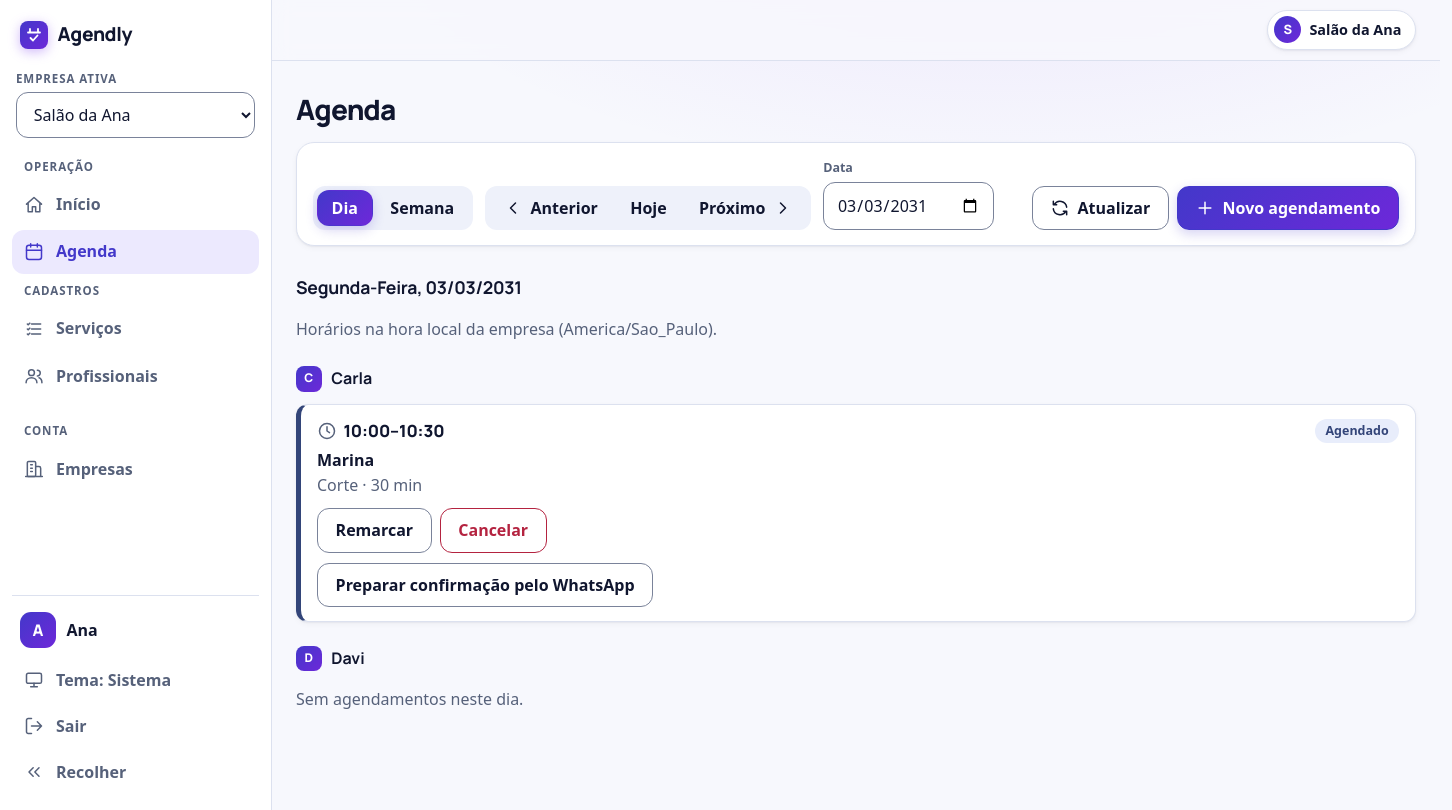
Test: navegação e visão semanal › alterna para a semana (segunda a domingo), consulta os 7 dias e põe cada agendamento no seu dia
Step 1. Click the button "Semana" → (422, 208), box [376,190,469,226]
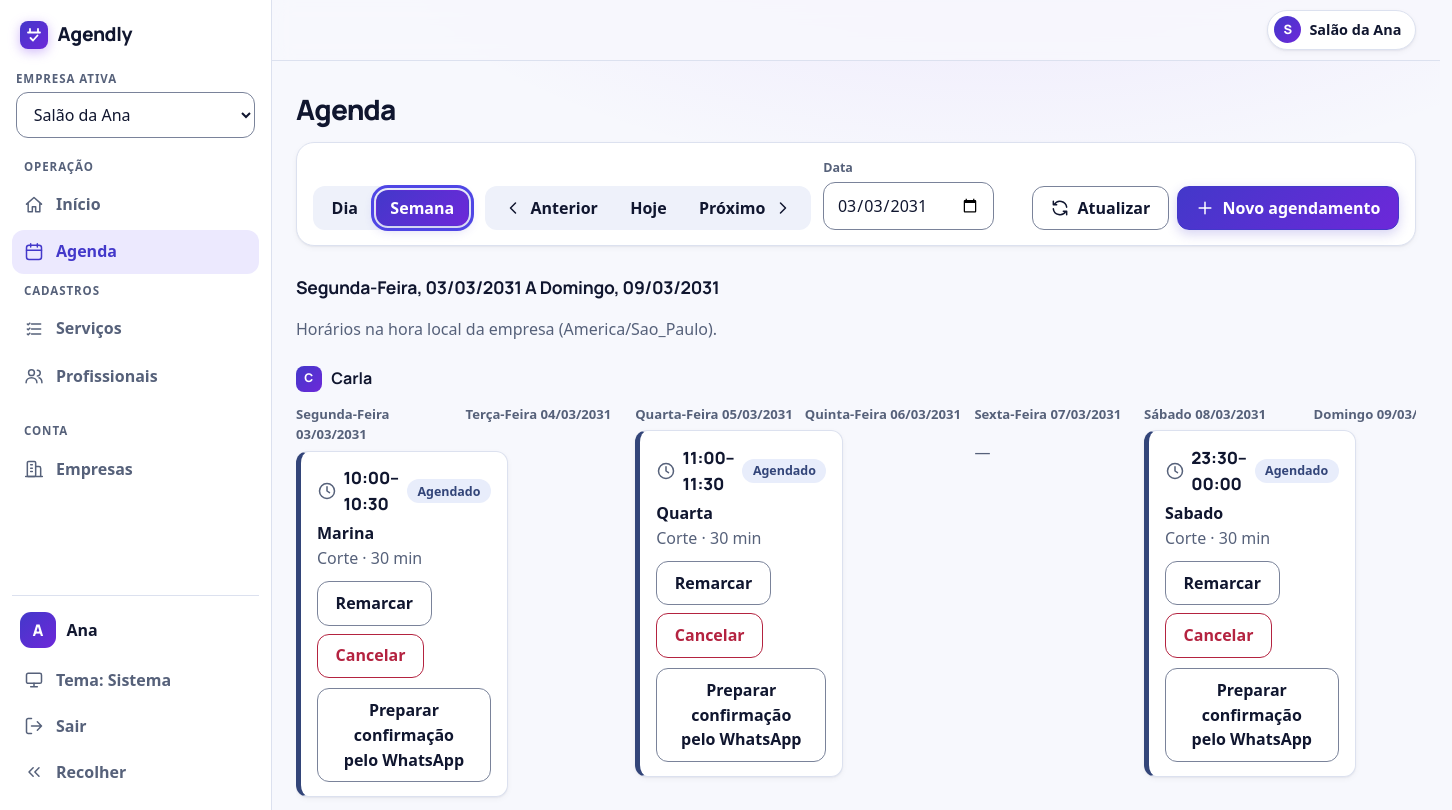
expect the text "Quarta" is shown: met, box [656,502,713,524]
expect the text "Sabado" is shown: met, box [1165,502,1223,524]
expect the 1st text "—" is shown: met, box [466,441,482,463]
